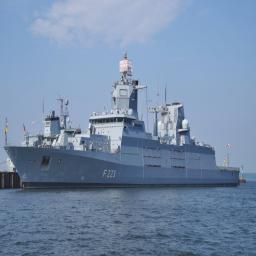Fragata: (2, 43, 243, 190)
